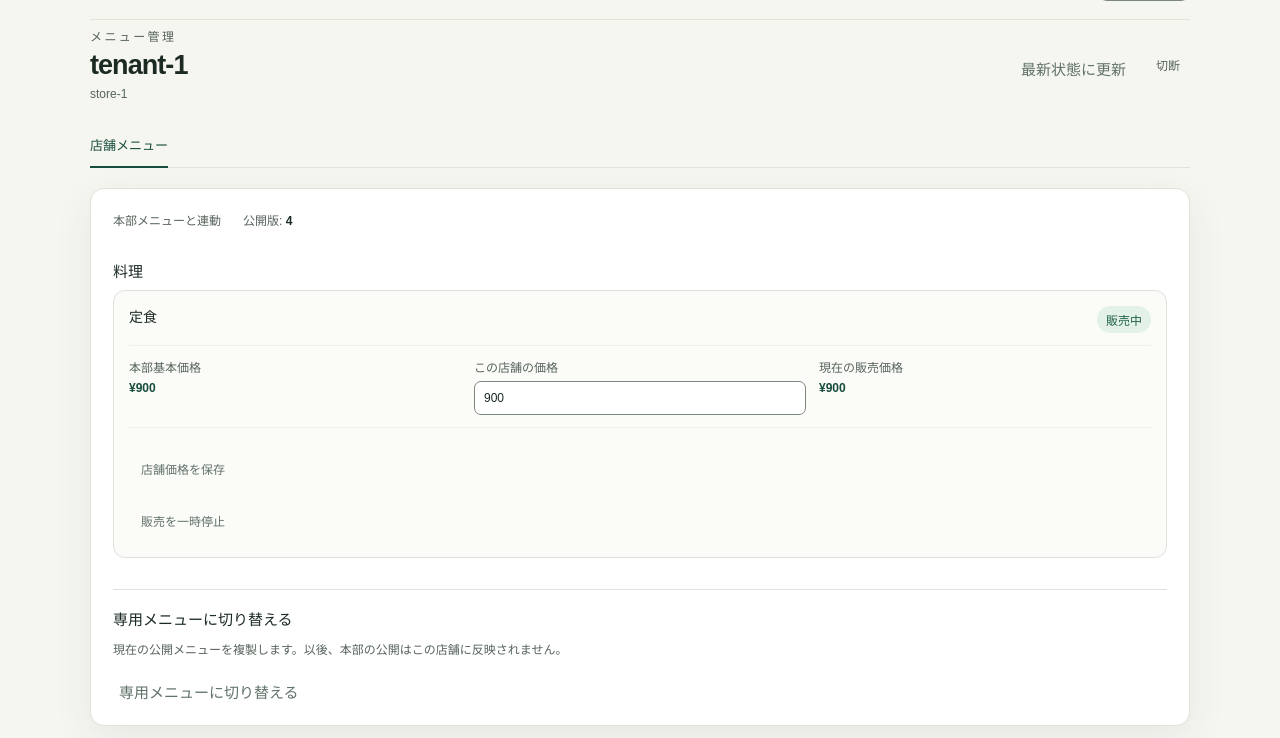
Scenario: catalog admin UI › reloads a conflicted store write without replaying the write
Expected: the button "切断" is shown, [1146,42,1190,86]
Expected: the button "最新状態に更新" is enabled, [1015,56,1132,80]
Click the button "店舗価格を保存" at (183, 468), box [129,446,237,490]
(page scrolled)
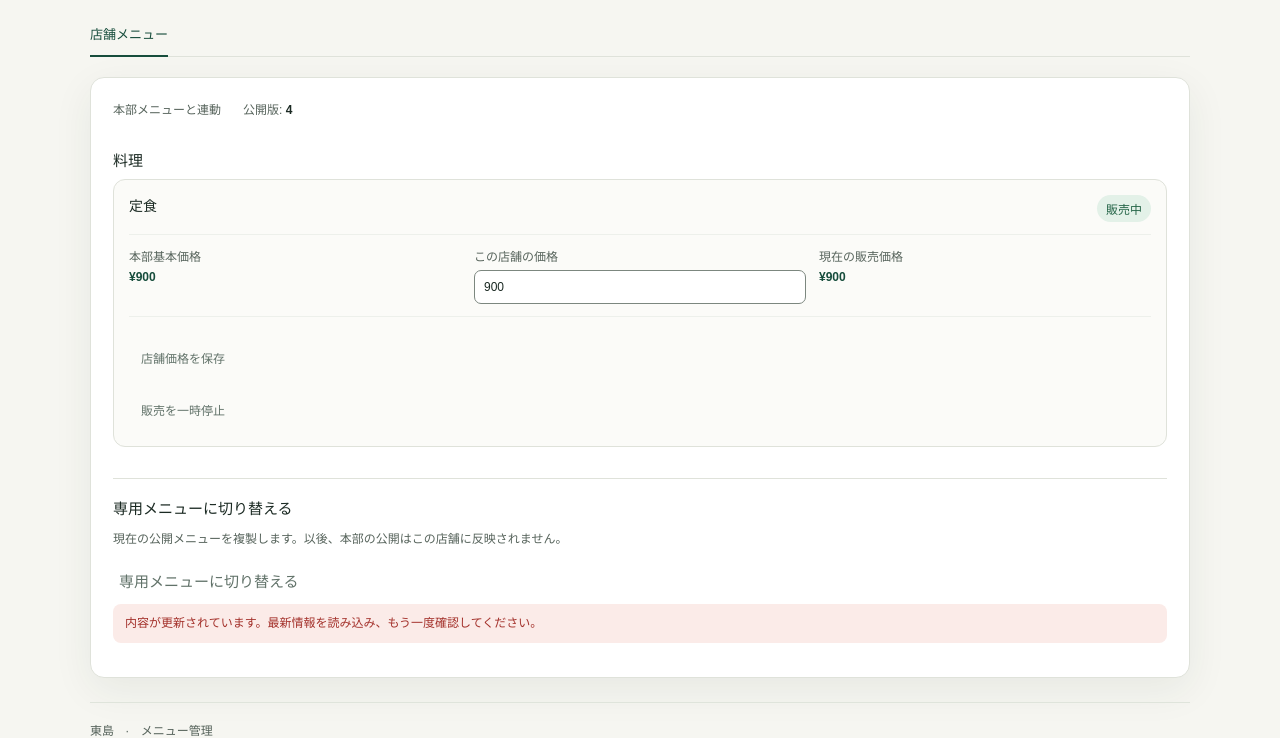
Expected: the text "内容が更新されています。最新情報を読み込み、もう一度確認してください。" is shown, [113,604,1167,643]
